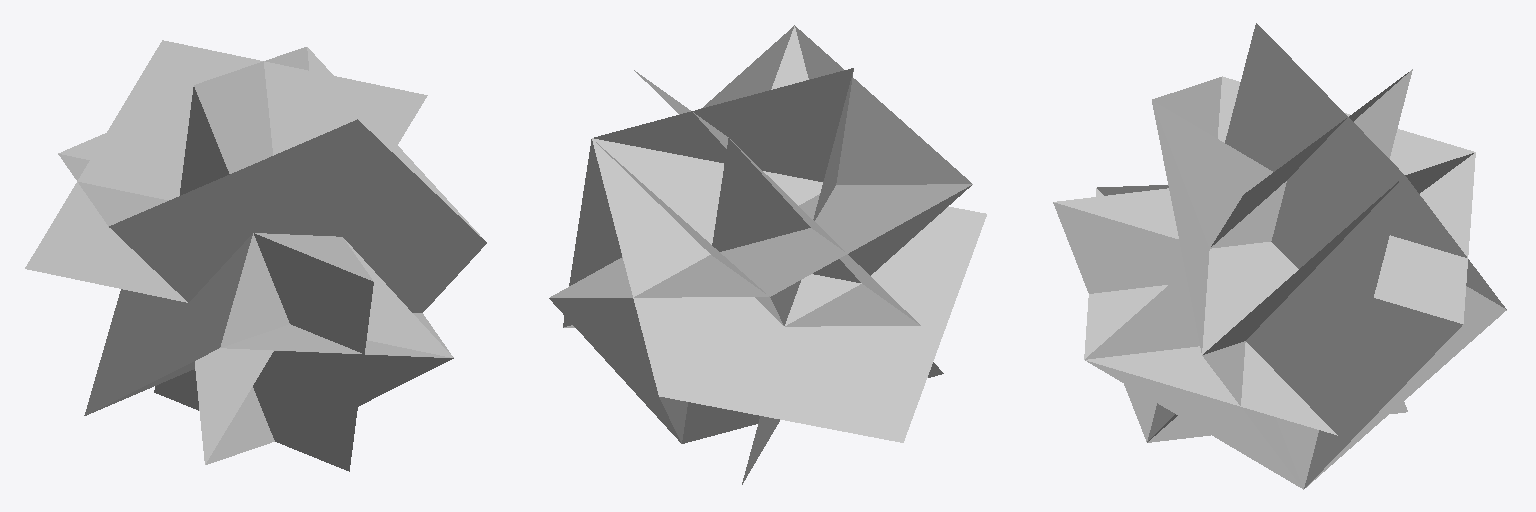
The model's file is GreatStellatedDodecahedron.obj.
3 views of the same model, side by side, from view 1: azimuth 30°, elevation 25°; view 2: azimuth 150°, elevation 25°; view 3: azimuth 270°, elevation 25° (orthographic).
Parts seen in each view (by area): view 1: GreatStellatedDodecahedron; view 2: GreatStellatedDodecahedron; view 3: GreatStellatedDodecahedron.
Boxes of the visible parts, box(x1,y1,x2,y2) form: GreatStellatedDodecahedron: box(25, 40, 486, 471); GreatStellatedDodecahedron: box(549, 25, 986, 484); GreatStellatedDodecahedron: box(1053, 23, 1506, 489).
Size of the model in its own units: 0.7573 by 0.7434 by 0.7744.